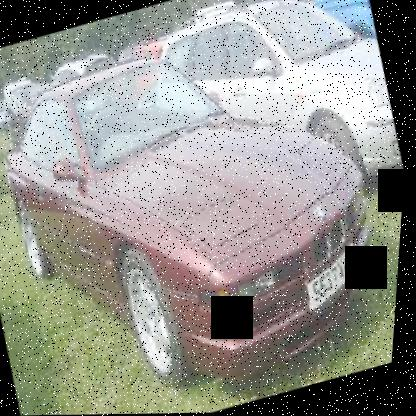not_emergency: (0, 3, 414, 412)
